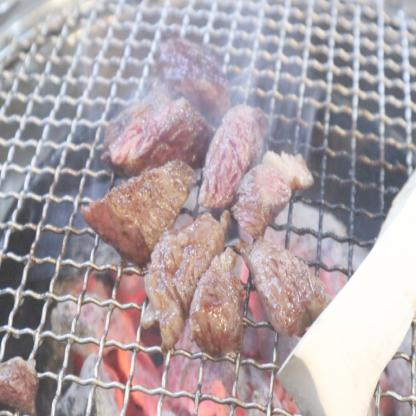Carne: (151, 210, 229, 330), (86, 159, 197, 239), (201, 101, 273, 216), (248, 233, 327, 326), (184, 241, 252, 348), (106, 96, 216, 153), (232, 150, 300, 242)
